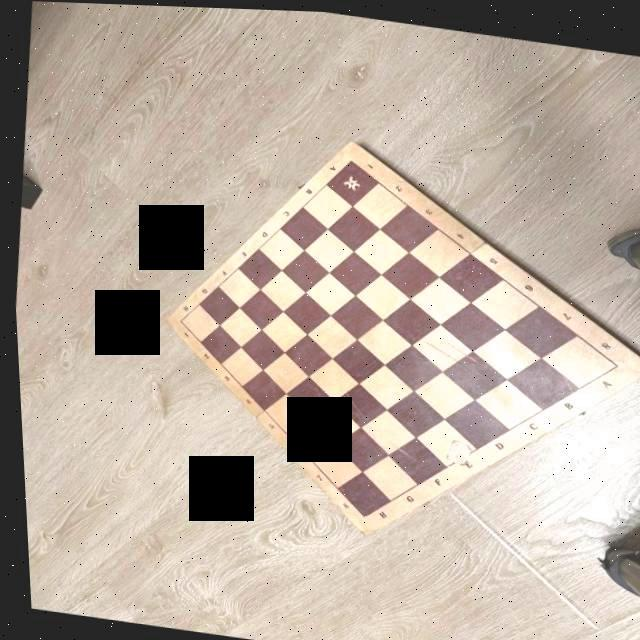chess-table-corners: (607, 355, 620, 365), (344, 151, 355, 162), (353, 509, 362, 516), (175, 316, 180, 321)
